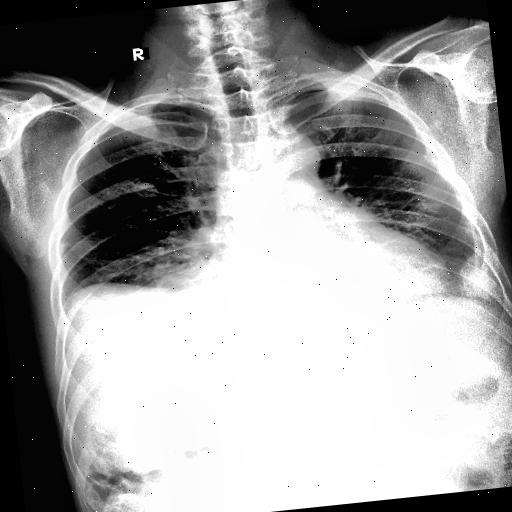0- Aortic enlargement: (258, 123, 320, 180)
10- Pleural effusion: (448, 240, 509, 310)
11- Pleural thickening: (459, 244, 503, 306)
3- Cardiomegaly: (192, 232, 450, 346), (177, 218, 449, 322), (190, 227, 452, 331)
7- Lung Opacity: (458, 248, 498, 311)
8- Nodule-Mass: (458, 254, 498, 302), (136, 177, 161, 200)
